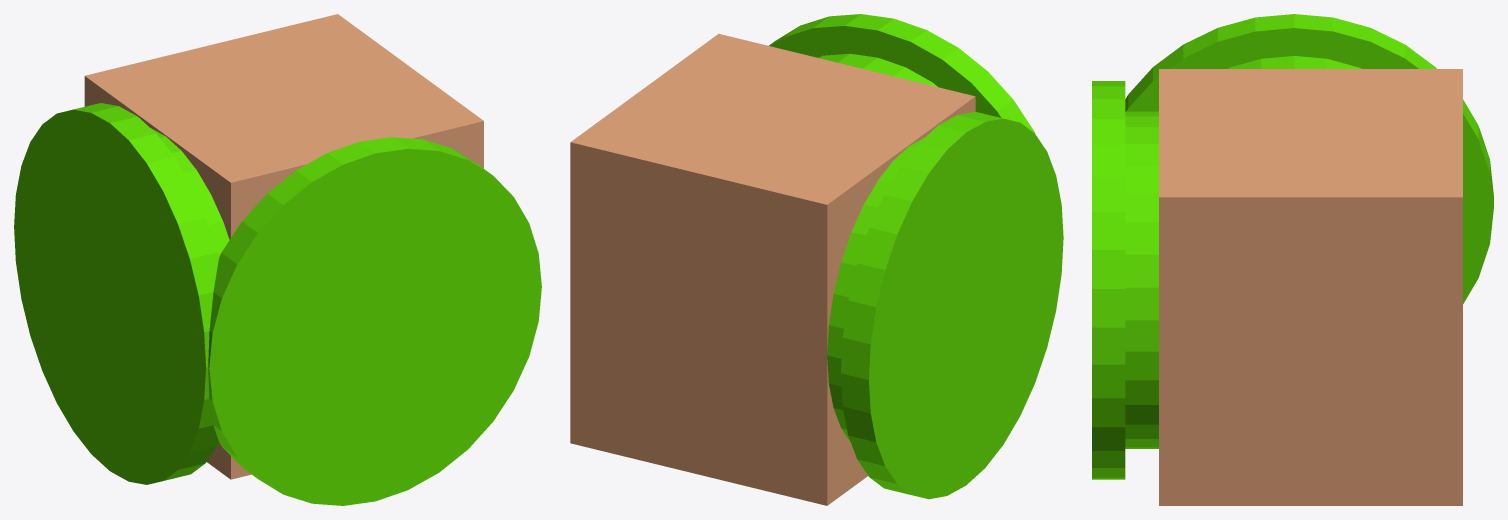
Rendered from Croner Pipe.fbx.
3 views of the same model, side by side, from view 1: azimuth 30°, elevation 25°; view 2: azimuth 150°, elevation 25°; view 3: azimuth 270°, elevation 25° (orthographic). The views are drawn at different scales.
Parts seen in each view (by area): view 1: Cylinder.002, Cylinder.001, Cube; view 2: Cube, Cylinder.001, Cylinder.002; view 3: Cube, Cylinder.002, Cylinder.001.
Part boxes in pixels (<box>): Cylinder.002: <box>208,137,541,505</box>; Cylinder.001: <box>14,103,229,484</box>; Cube: <box>84,14,483,479</box>; Cube: <box>570,33,975,505</box>; Cylinder.001: <box>827,112,1063,499</box>; Cylinder.002: <box>769,14,1035,134</box>; Cube: <box>1159,69,1462,505</box>; Cylinder.002: <box>1092,81,1158,479</box>; Cylinder.001: <box>1125,14,1493,303</box>.
Bounding box in the file's own units: 238 × 236 × 238.
